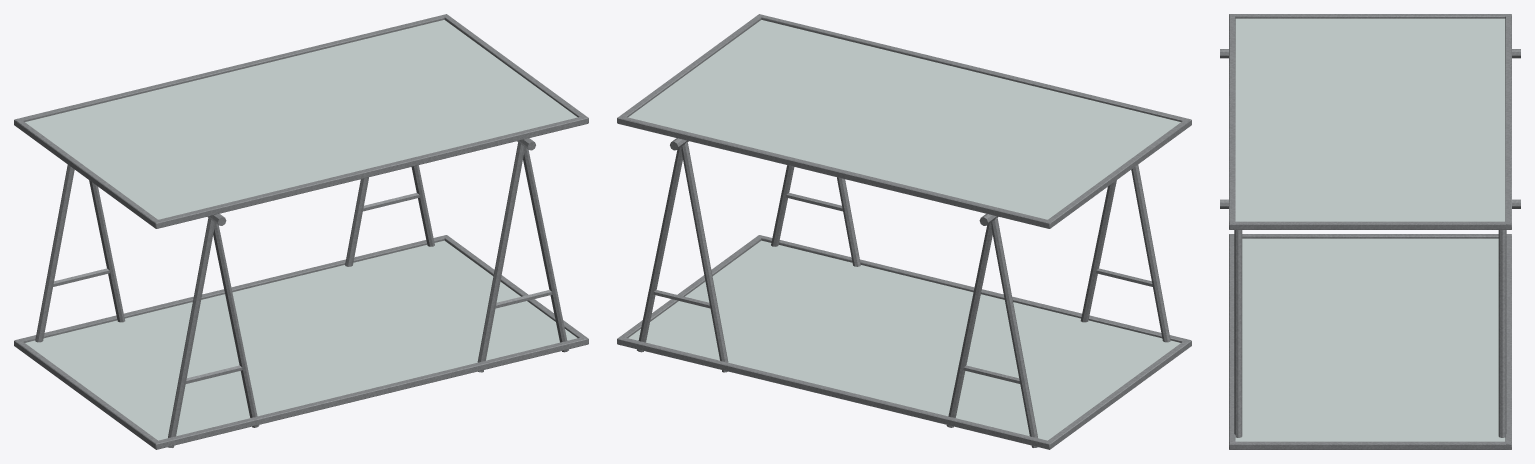
The model's file is glass_pane.glb.
3 views of the same model, side by side, from view 1: azimuth 30°, elevation 25°; view 2: azimuth 150°, elevation 25°; view 3: azimuth 270°, elevation 25° (orthographic).
Parts seen in each view (by area): view 1: GlassPane_Up_glass, GlassPane_Carried_glass, GlassPane_Up_frame, GlassPane_Broken, GlassPane_Carried_frame; view 2: GlassPane_Up_glass, GlassPane_Carried_glass, GlassPane_Up_frame, GlassPane_Broken, GlassPane_Carried_frame; view 3: GlassPane_Up_glass, GlassPane_Carried_glass, GlassPane_Up_frame, GlassPane_Carried_frame, GlassPane_Broken.
Boxes of the visible parts, x1,y1,x2,y2 form: GlassPane_Up_glass: (25,20,577,219); GlassPane_Carried_glass: (25,240,577,440); GlassPane_Up_frame: (14,14,588,447); GlassPane_Broken: (15,14,585,447); GlassPane_Carried_frame: (14,235,588,449); GlassPane_Up_glass: (628,20,1180,219); GlassPane_Carried_glass: (628,240,1180,440); GlassPane_Up_frame: (617,14,1191,447); GlassPane_Broken: (620,14,1190,433); GlassPane_Carried_frame: (617,235,1191,449); GlassPane_Up_glass: (1235,18,1505,221); GlassPane_Carried_glass: (1235,238,1505,441); GlassPane_Up_frame: (1220,14,1520,437); GlassPane_Carried_frame: (1229,234,1511,449); GlassPane_Broken: (1220,14,1520,318).
Size of the model in its own units: 1.62 by 0.8306 by 0.98.
Materials: 2 (1 with a texture image).
